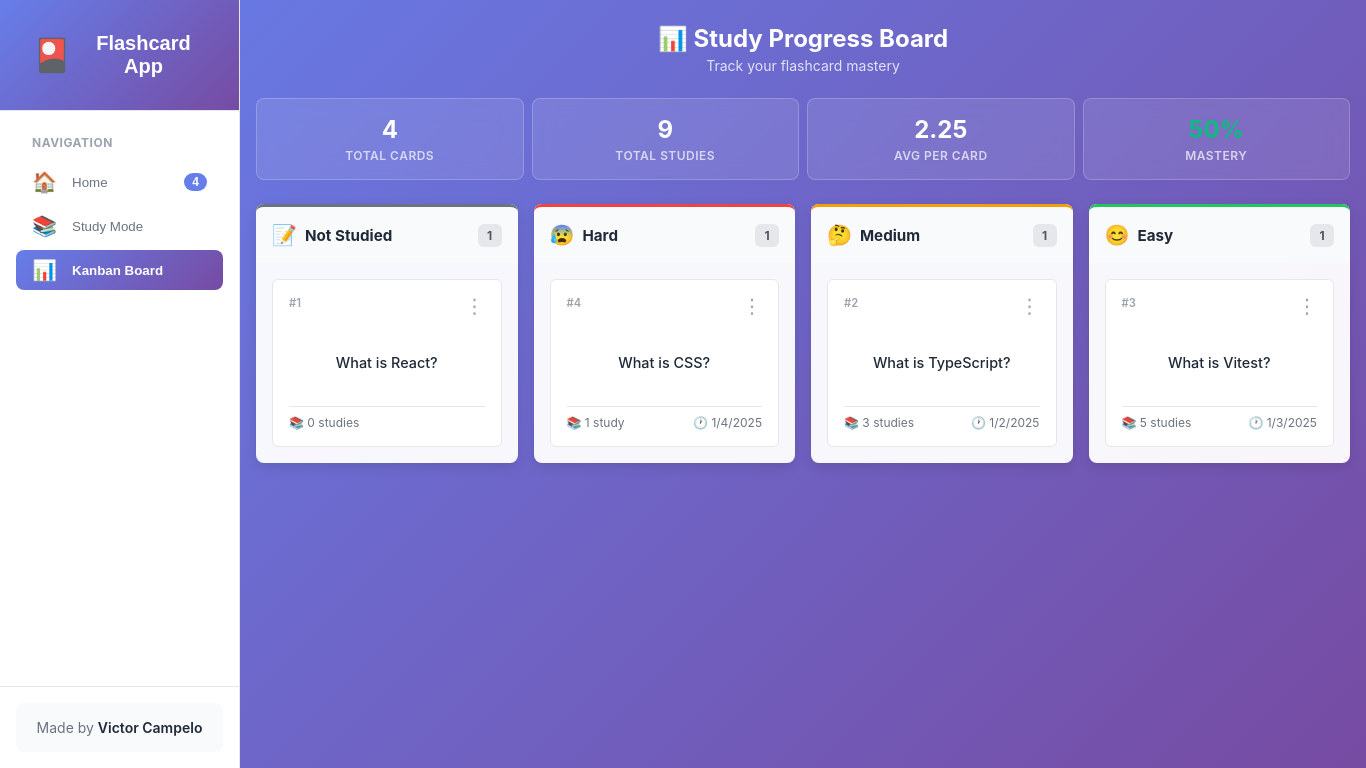
Test: Kanban › Error Handling › displays error when difficulty update fails
The image size is (1366, 768).
Expected: the text "What is React?" is shown, x1=336 y1=352 x2=438 y2=374
Note: Open menu and try to change difficulty
Click the button with test id "card-menu-btn" below "Not Studied".
click(474, 306)  # box x1=456 y1=292 x2=492 y2=320
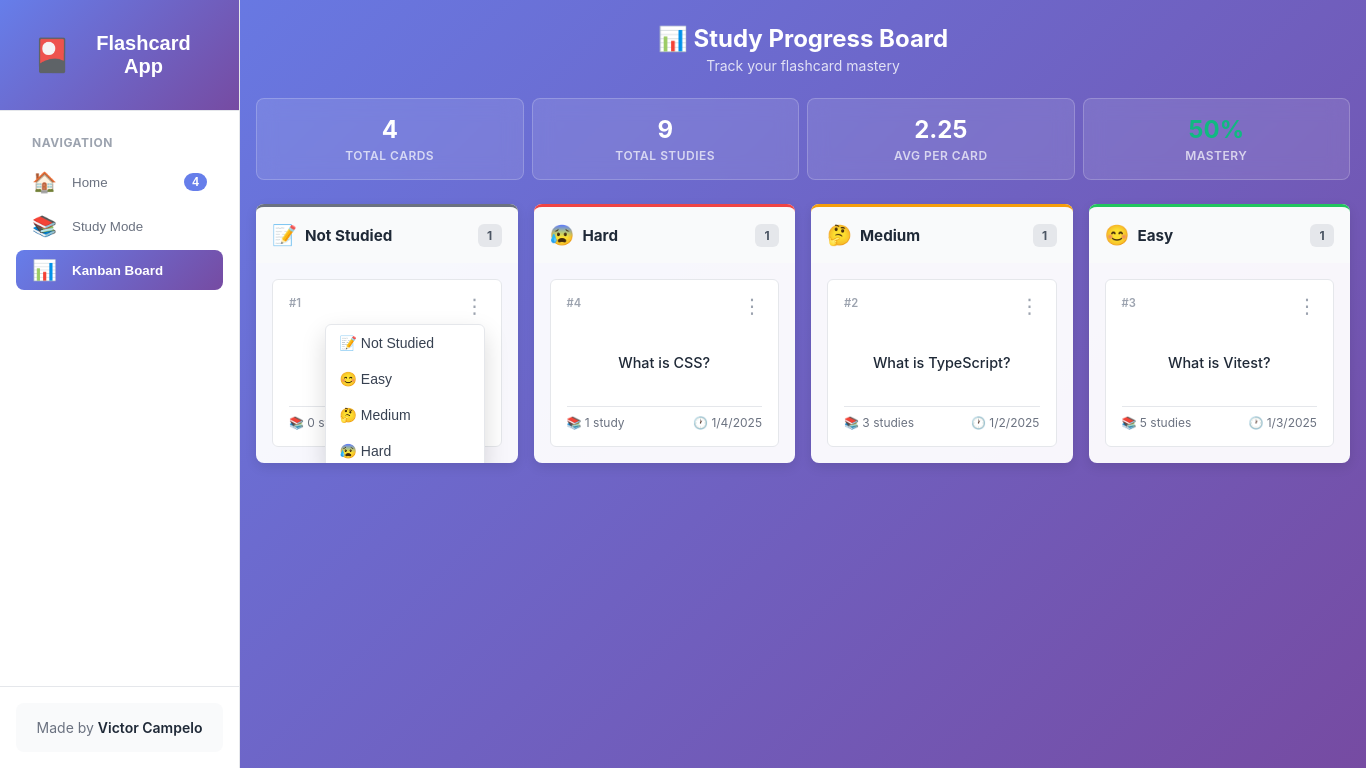
Expected: the element with test id "card-menu" is shown, x1=324 y1=324 x2=484 y2=463
Click the button "😊 Easy".
click(404, 379)  # box x1=326 y1=361 x2=484 y2=397
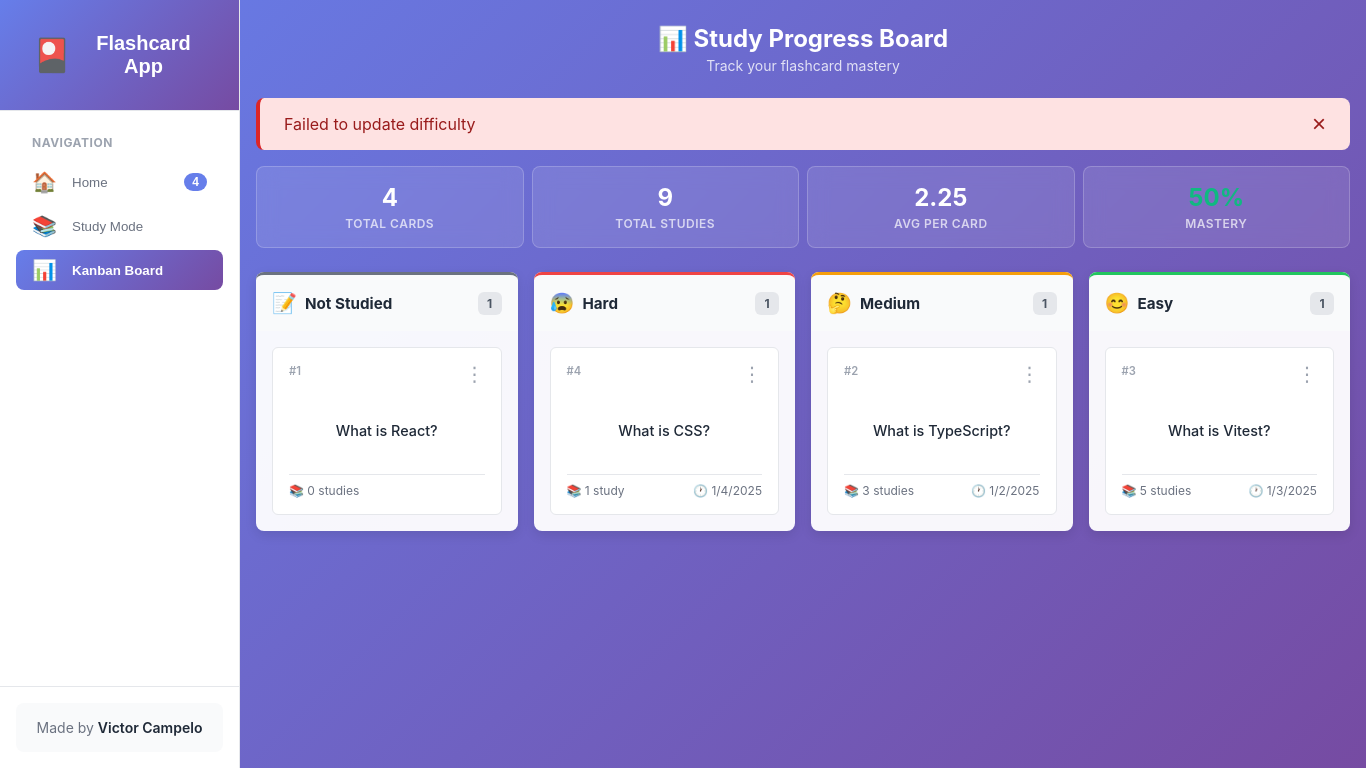
Expected: the text "Failed to update difficulty" is shown, x1=284 y1=114 x2=476 y2=134
